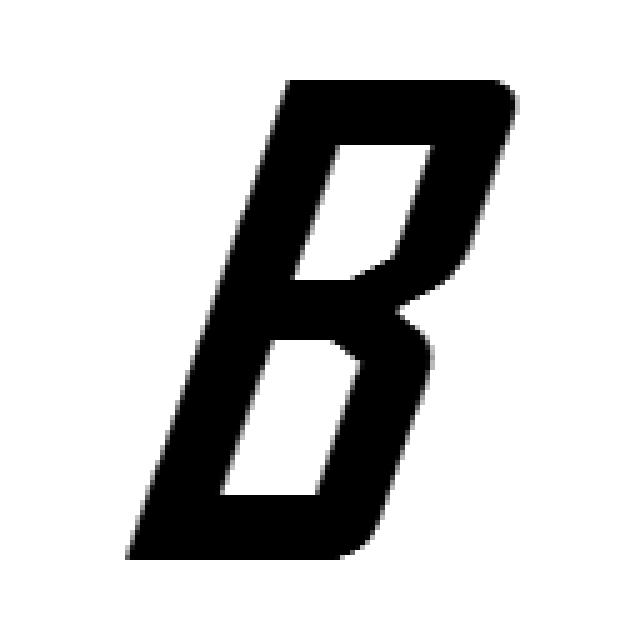B: (125, 80, 520, 565)
